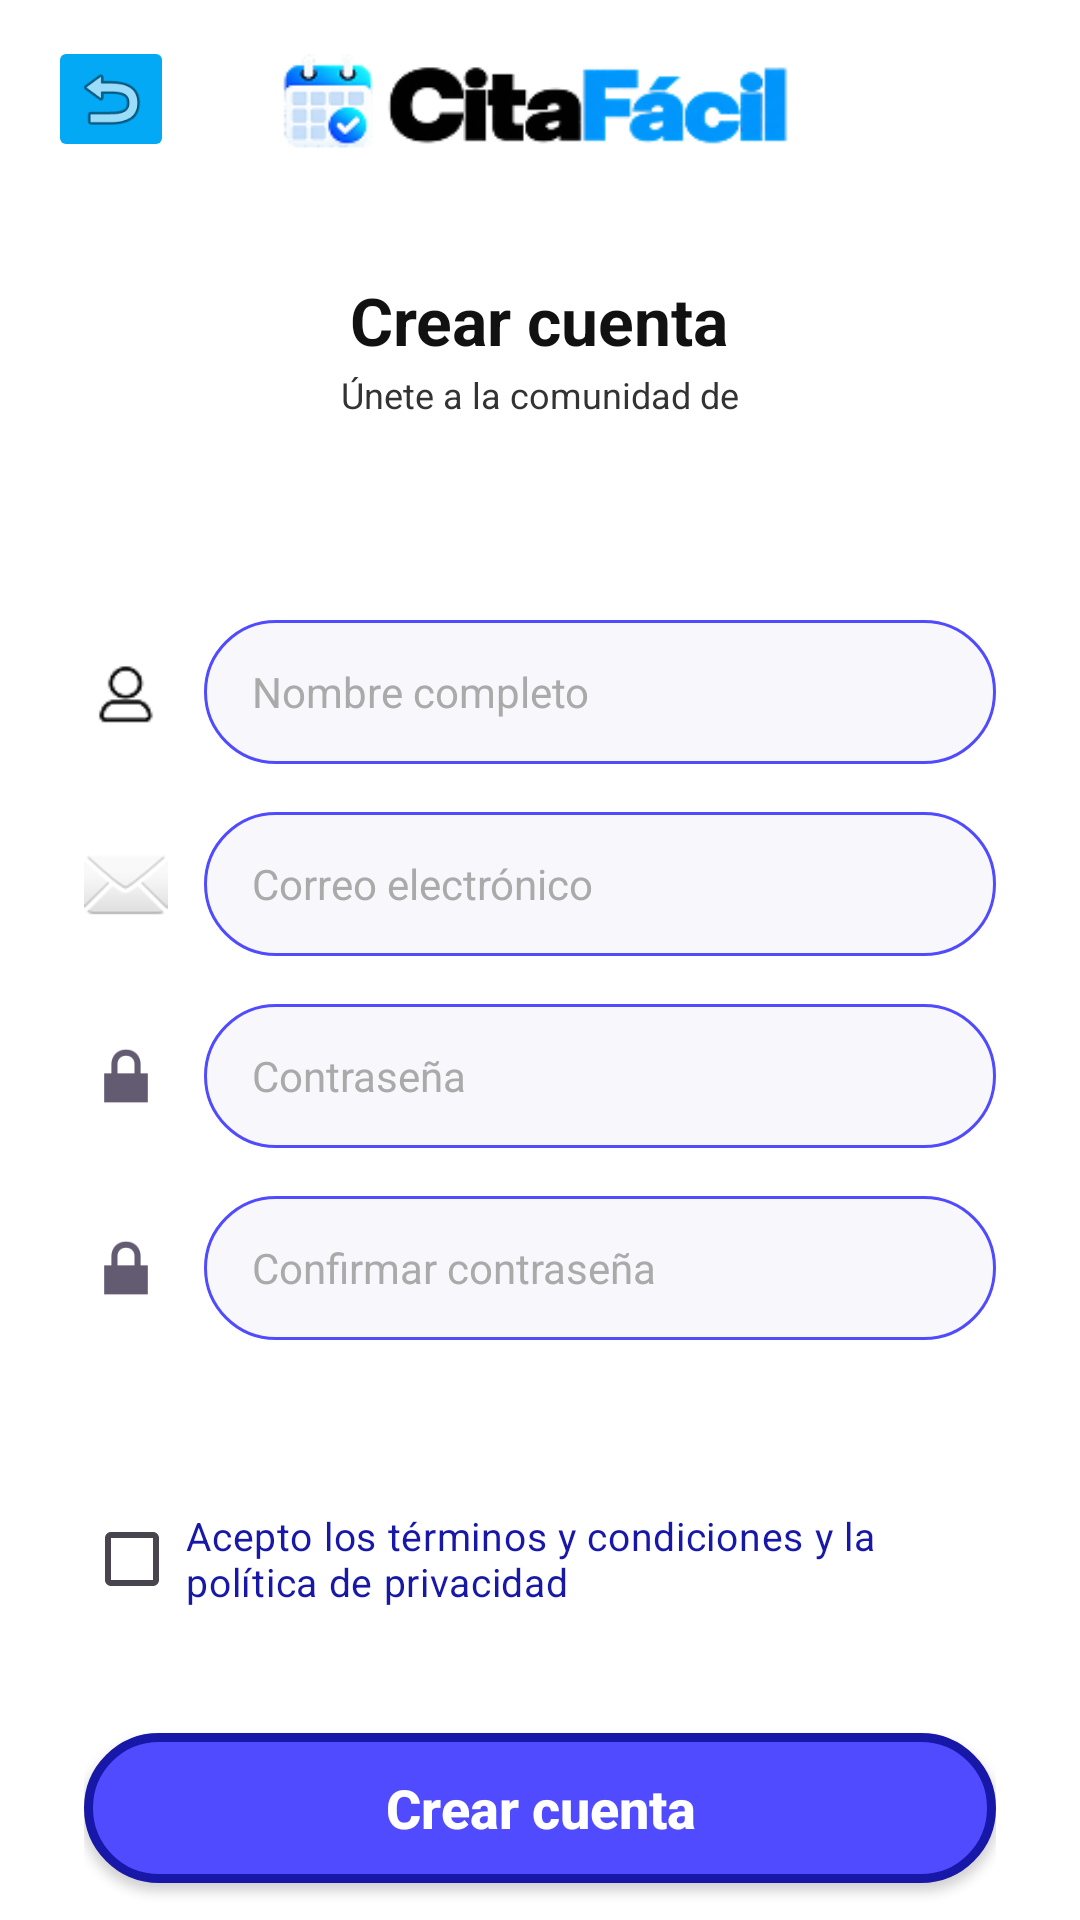

Where to tap for icons on this 1080*1920 app screen, as [x,y]:
Usuario: [126,694]
Volver: [111,99]
